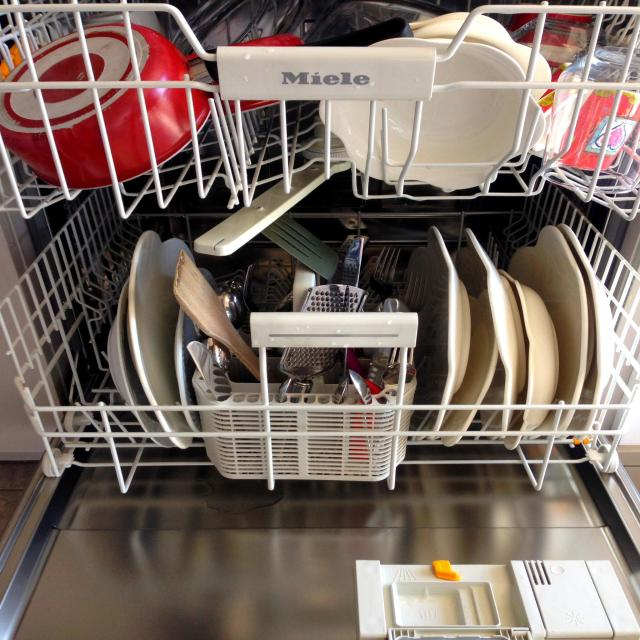dishwasher: (2, 0, 640, 640)
